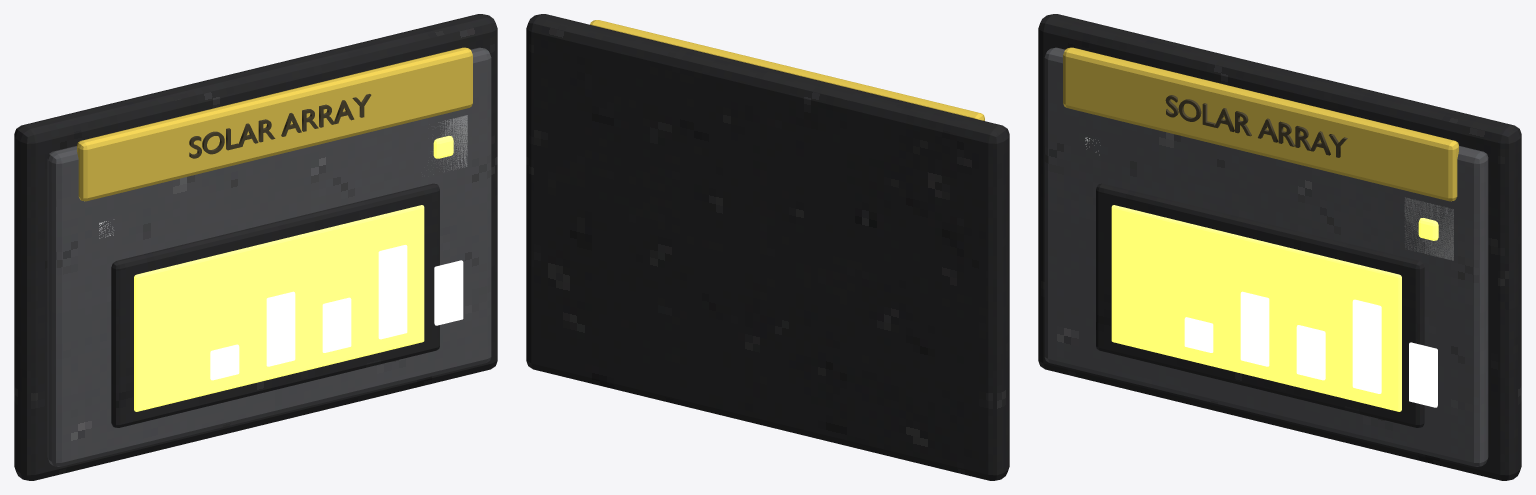
File: decor_eng_solar_readout.glb
The picture shows the model from 3 angles, left to right: view 1: azimuth 30°, elevation 25°; view 2: azimuth 150°, elevation 25°; view 3: azimuth 330°, elevation 25°; orthographic projection.
Parts seen in each view (by area): view 1: DEC_EngSolarReadout__Panel_Face, DEC_EngSolarReadout__Screen_Glow, DEC_EngSolarReadout__Panel_Back, DEC_EngSolarReadout__Header, DEC_EngSolarReadout__Screen_Bezel, DEC_EngSolarReadout__Output_Bar_4, DEC_EngSolarReadout__Header_Text, DEC_EngSolarReadout__Output_Bar_2, DEC_EngSolarReadout__Output_Bar_5, DEC_EngSolarReadout__Output_Bar_3, DEC_EngSolarReadout__Dish_Icon_Plate, DEC_EngSolarReadout__Output_Bar_1; view 2: DEC_EngSolarReadout__Panel_Back, DEC_EngSolarReadout__Header; view 3: DEC_EngSolarReadout__Panel_Face, DEC_EngSolarReadout__Screen_Glow, DEC_EngSolarReadout__Panel_Back, DEC_EngSolarReadout__Header, DEC_EngSolarReadout__Screen_Bezel, DEC_EngSolarReadout__Output_Bar_4, DEC_EngSolarReadout__Header_Text, DEC_EngSolarReadout__Output_Bar_2, DEC_EngSolarReadout__Dish_Icon_Plate, DEC_EngSolarReadout__Output_Bar_5, DEC_EngSolarReadout__Output_Bar_3, DEC_EngSolarReadout__Output_Bar_1.
Boxes of the visible parts, x1,y1,x2,y2 form: DEC_EngSolarReadout__Panel_Face: (47,47,491,466); DEC_EngSolarReadout__Screen_Glow: (134,205,424,411); DEC_EngSolarReadout__Panel_Back: (14,14,497,480); DEC_EngSolarReadout__Header: (77,47,472,201); DEC_EngSolarReadout__Screen_Bezel: (111,183,439,427); DEC_EngSolarReadout__Output_Bar_4: (378,245,407,339); DEC_EngSolarReadout__Header_Text: (189,94,371,158); DEC_EngSolarReadout__Output_Bar_2: (266,291,295,366); DEC_EngSolarReadout__Output_Bar_5: (434,260,463,325); DEC_EngSolarReadout__Output_Bar_3: (322,297,351,352); DEC_EngSolarReadout__Dish_Icon_Plate: (428,115,467,174); DEC_EngSolarReadout__Output_Bar_1: (210,344,239,380); DEC_EngSolarReadout__Panel_Back: (526,14,1009,480); DEC_EngSolarReadout__Header: (590,20,984,120); DEC_EngSolarReadout__Panel_Face: (1044,47,1488,466); DEC_EngSolarReadout__Screen_Glow: (1111,205,1401,411); DEC_EngSolarReadout__Panel_Back: (1038,14,1521,480); DEC_EngSolarReadout__Header: (1063,47,1458,201); DEC_EngSolarReadout__Screen_Bezel: (1096,183,1424,427); DEC_EngSolarReadout__Output_Bar_4: (1352,299,1381,393); DEC_EngSolarReadout__Header_Text: (1165,95,1347,157); DEC_EngSolarReadout__Output_Bar_2: (1240,291,1269,366); DEC_EngSolarReadout__Dish_Icon_Plate: (1404,197,1453,260); DEC_EngSolarReadout__Output_Bar_5: (1409,342,1437,407); DEC_EngSolarReadout__Output_Bar_3: (1296,325,1325,380); DEC_EngSolarReadout__Output_Bar_1: (1184,317,1213,352).
Bounding box in the file's own units: 1.02 × 0.72 × 0.126.
7 materials, 3 textured.
